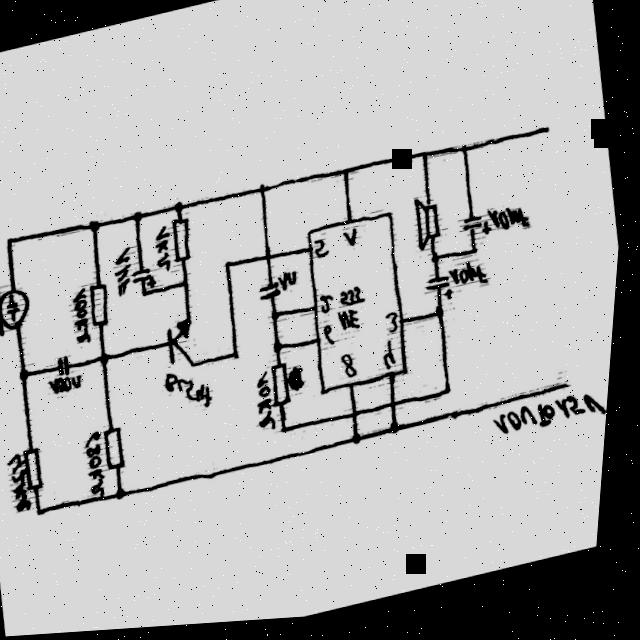capacitor: (430, 279, 457, 310), (465, 218, 494, 245), (135, 267, 160, 294), (262, 284, 284, 306), (61, 355, 76, 378)
crossover: (394, 403, 404, 415), (355, 413, 365, 425), (267, 254, 276, 266)
junction: (23, 367, 35, 382), (277, 341, 287, 357), (134, 210, 145, 224), (104, 352, 114, 367), (92, 219, 102, 234), (395, 426, 405, 439), (122, 488, 132, 501), (439, 310, 448, 324), (434, 258, 444, 270), (177, 202, 186, 215), (358, 437, 367, 450), (184, 280, 194, 291), (8, 235, 17, 247), (260, 185, 269, 197), (275, 313, 284, 324), (286, 428, 294, 439), (344, 170, 352, 181), (422, 154, 430, 165), (463, 148, 470, 160), (42, 506, 50, 516), (237, 352, 244, 363), (450, 392, 457, 402), (475, 252, 482, 262), (227, 262, 234, 271), (144, 291, 151, 299)
resistor: (172, 215, 197, 268), (91, 281, 115, 330), (108, 426, 132, 473), (273, 364, 296, 412), (28, 445, 50, 492)
terminal: (564, 383, 579, 401), (542, 126, 555, 146)
text: (497, 393, 612, 447), (169, 367, 218, 418), (89, 430, 114, 498), (338, 289, 373, 337), (13, 450, 38, 515), (258, 373, 282, 436), (451, 262, 492, 298), (490, 208, 533, 242), (74, 287, 96, 346), (115, 246, 136, 300), (155, 225, 177, 275), (53, 372, 87, 396), (280, 272, 302, 296), (386, 344, 402, 376), (345, 355, 362, 384), (316, 240, 333, 264), (388, 315, 404, 340), (322, 295, 338, 319), (345, 230, 361, 252), (327, 326, 341, 351)
transistor: (169, 318, 201, 374)
